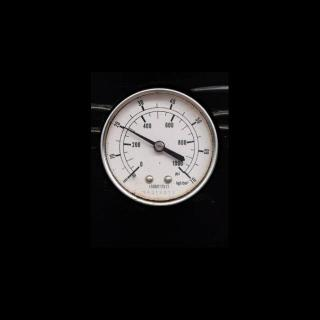gauge: (90, 82, 226, 212), (180, 169, 200, 188), (120, 168, 135, 186), (154, 140, 164, 152), (121, 124, 127, 132)
